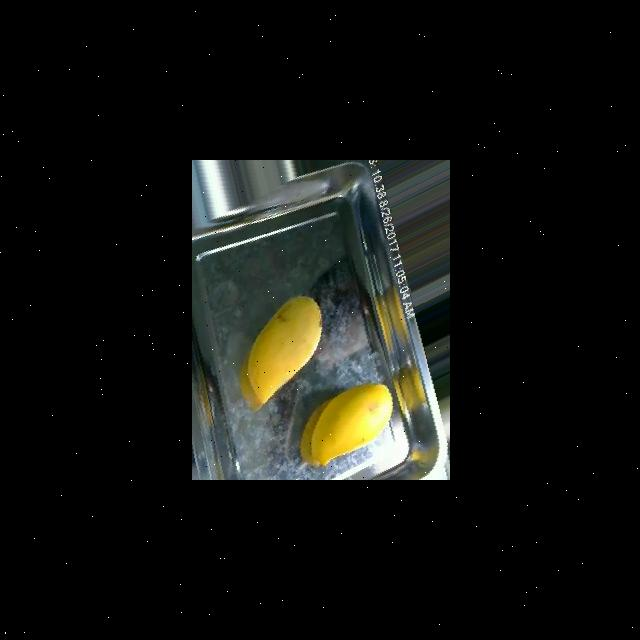Mango: (239, 296, 323, 412), (300, 383, 393, 468)
